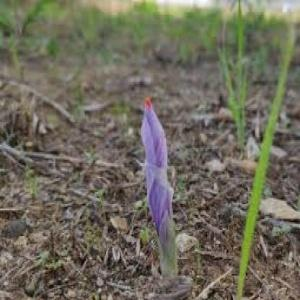Saffron: (140, 98, 178, 251)
